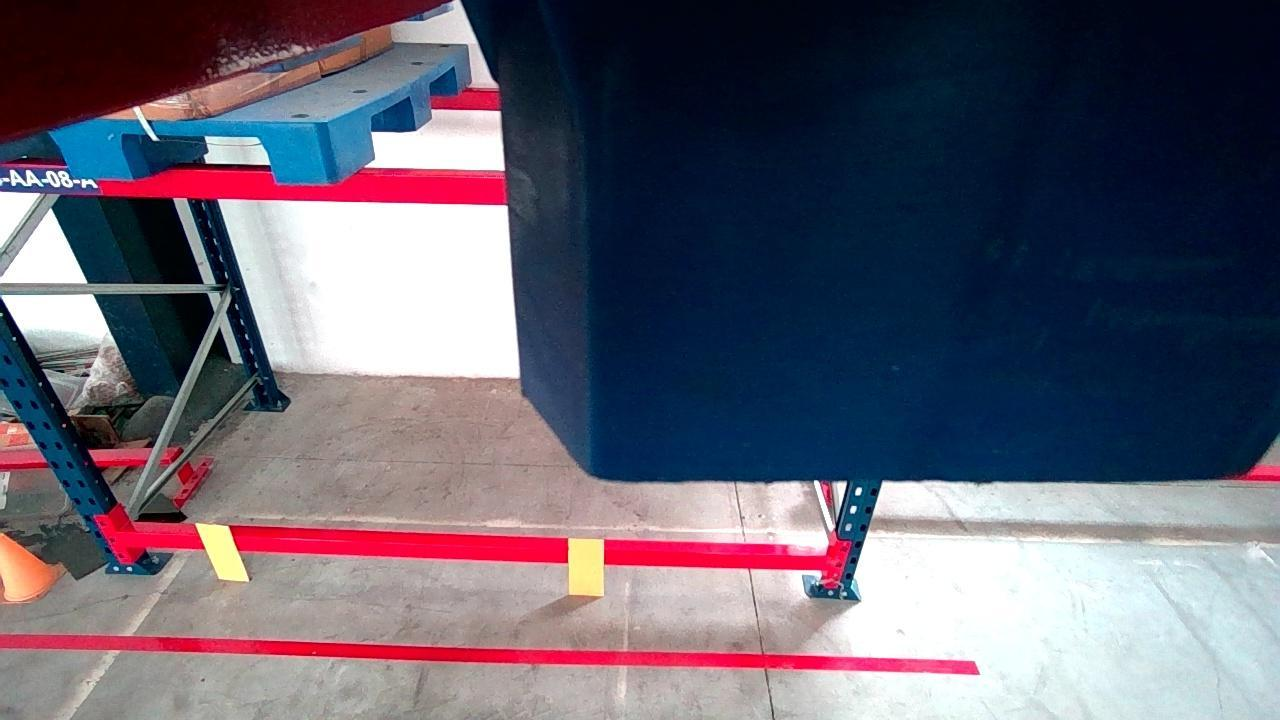h_rack: (118, 535, 824, 570), (0, 166, 504, 204)
orange_strip: (198, 524, 247, 577), (569, 539, 600, 594)
red_line: (2, 635, 981, 674)
small_pallet: (54, 120, 333, 185)
